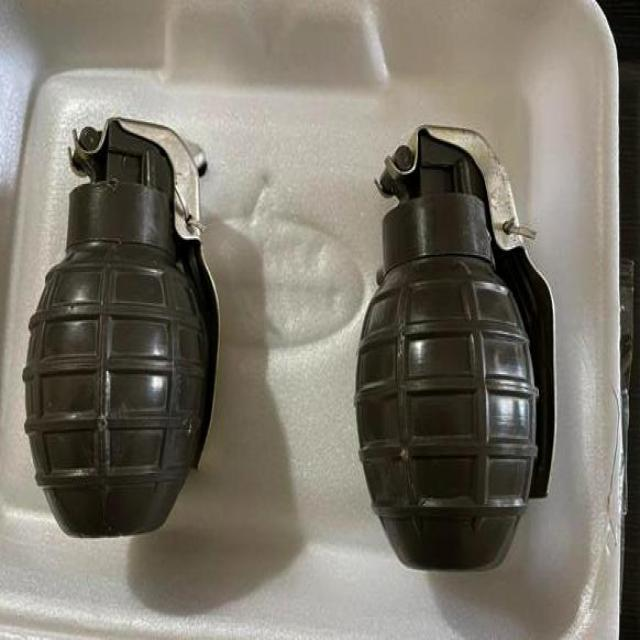grenade: (354, 128, 555, 573), (23, 122, 221, 541)
